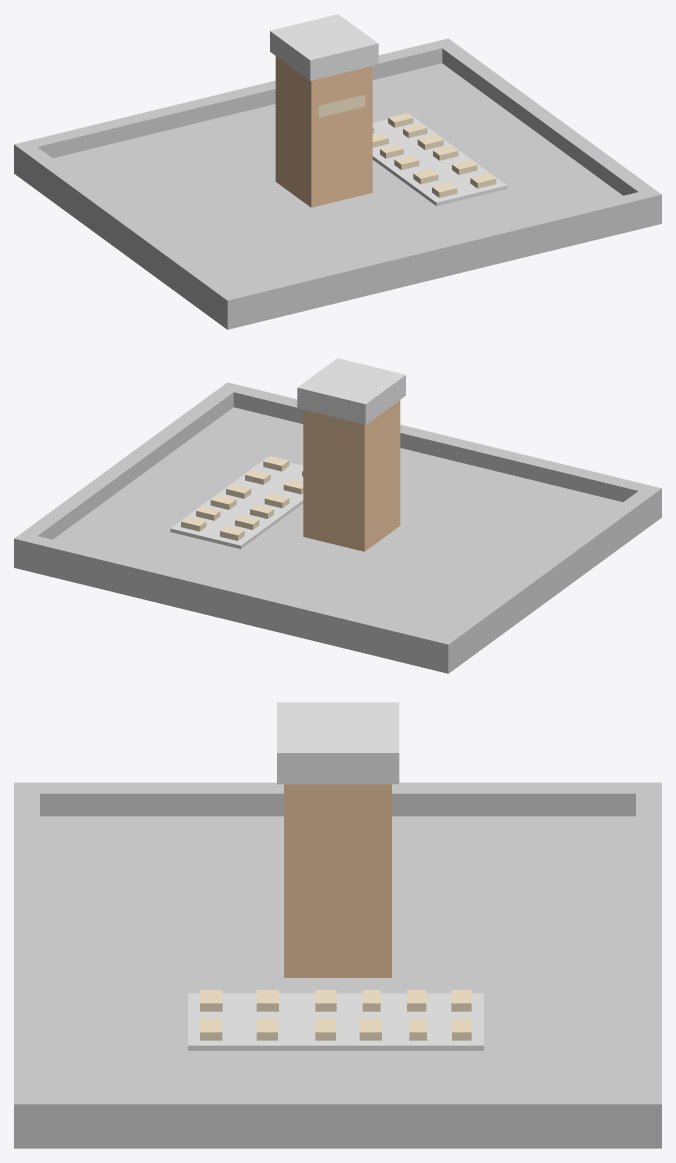
Rendered from medicines.fbx.
3 views of the same model, one above another, from view 1: azimuth 30°, elevation 25°; view 2: azimuth 150°, elevation 25°; view 3: azimuth 270°, elevation 25° (orthographic). The views are drawn at different scales.
Parts seen in each view (by area): view 1: Cube; view 2: Cube; view 3: Cube.
Boxes of the visible parts, x1=… form: Cube: x1=14, y1=14, x2=661, y2=329; Cube: x1=14, y1=358, x2=661, y2=673; Cube: x1=14, y1=702, x2=661, y2=1148.
Bounding box in the file's own units: 29.37 × 10.65 × 25.
